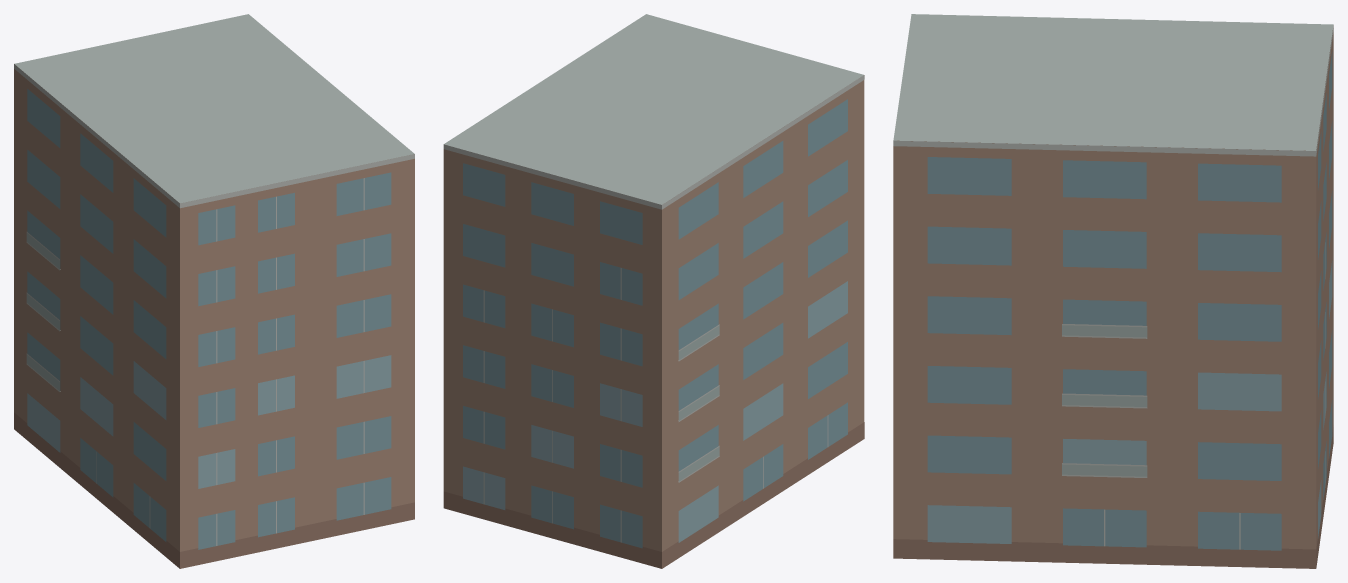
Rendered from survey-upis-32744602.glb.
The picture shows the model from 3 angles, left to right: view 1: azimuth 30°, elevation 25°; view 2: azimuth 150°, elevation 25°; view 3: azimuth 270°, elevation 25°; orthographic projection. The views are drawn at different scales.
Parts seen in each view (by area): view 1: survey-upis-32744602.tmp; view 2: survey-upis-32744602.tmp; view 3: survey-upis-32744602.tmp.
Part boxes in pixels (x1,y1,x2,y2): survey-upis-32744602.tmp: (14,14,414,568); survey-upis-32744602.tmp: (443,14,864,568); survey-upis-32744602.tmp: (893,14,1333,568).
Bounding box in the file's own units: 13.02 × 18.5 × 17.68.
